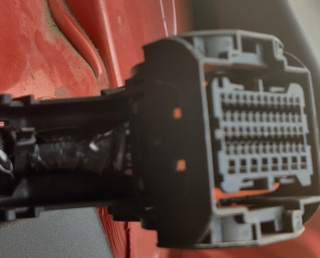connector: (131, 29, 319, 249)
